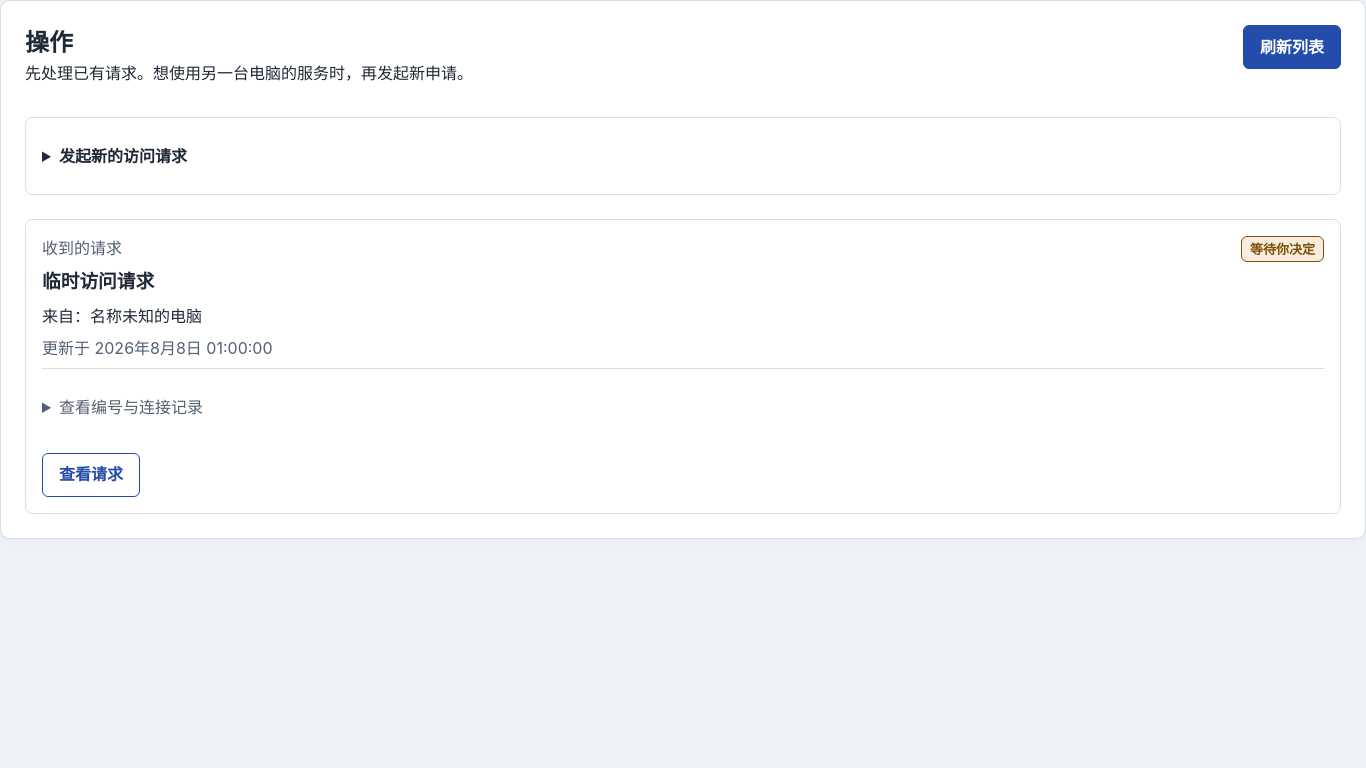
Scenario: OperationsListPage › 没有合格对端时禁用新建但保留已有操作
The image size is (1366, 768).
Check: the link "查看请求" is shown, box [42,453,140,497]
Check: the text "还没有允许临时访问的电脑" is not shown
Click the heading "发起新的访问请求".
click(123, 156)  # box [59,146,187,166]
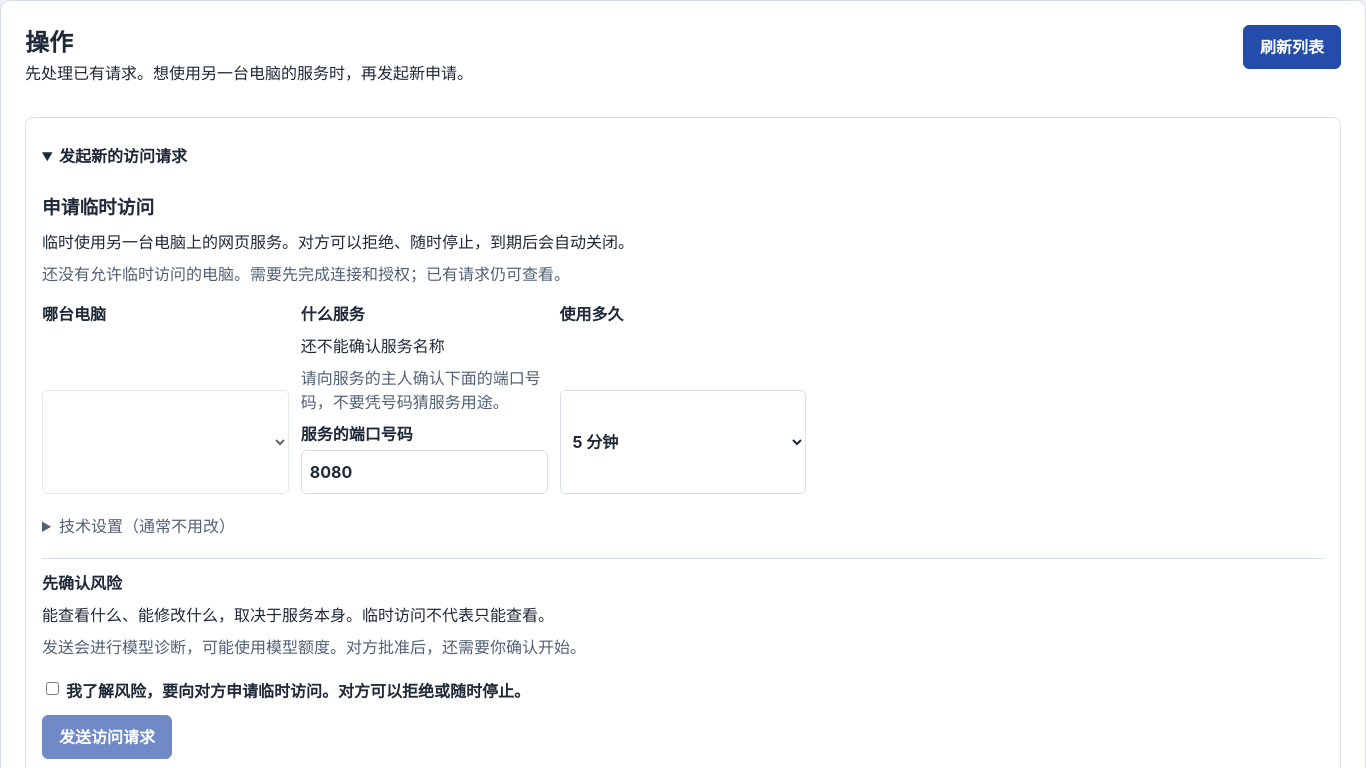
Check: the text "还没有允许临时访问的电脑。需要先完成连接和授权；已有请求仍可查看。" is shown, box [42,264,570,284]
Check: the button "发送访问请求" is disabled, box [42,715,172,759]
